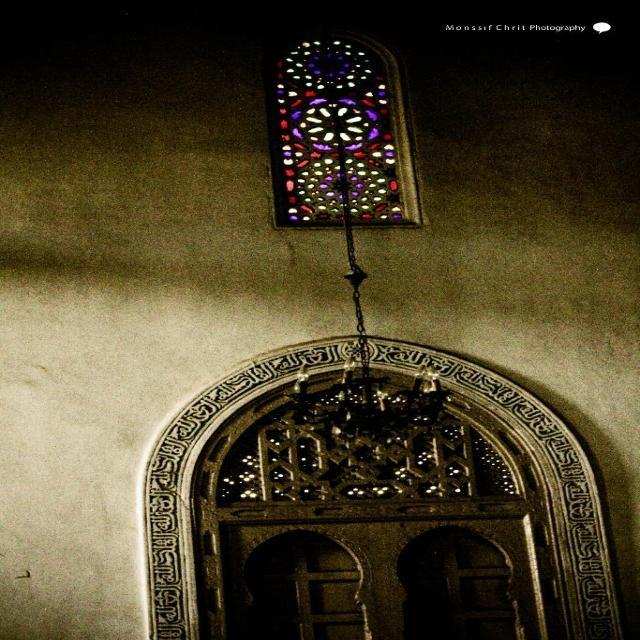door: (130, 334, 640, 640)
